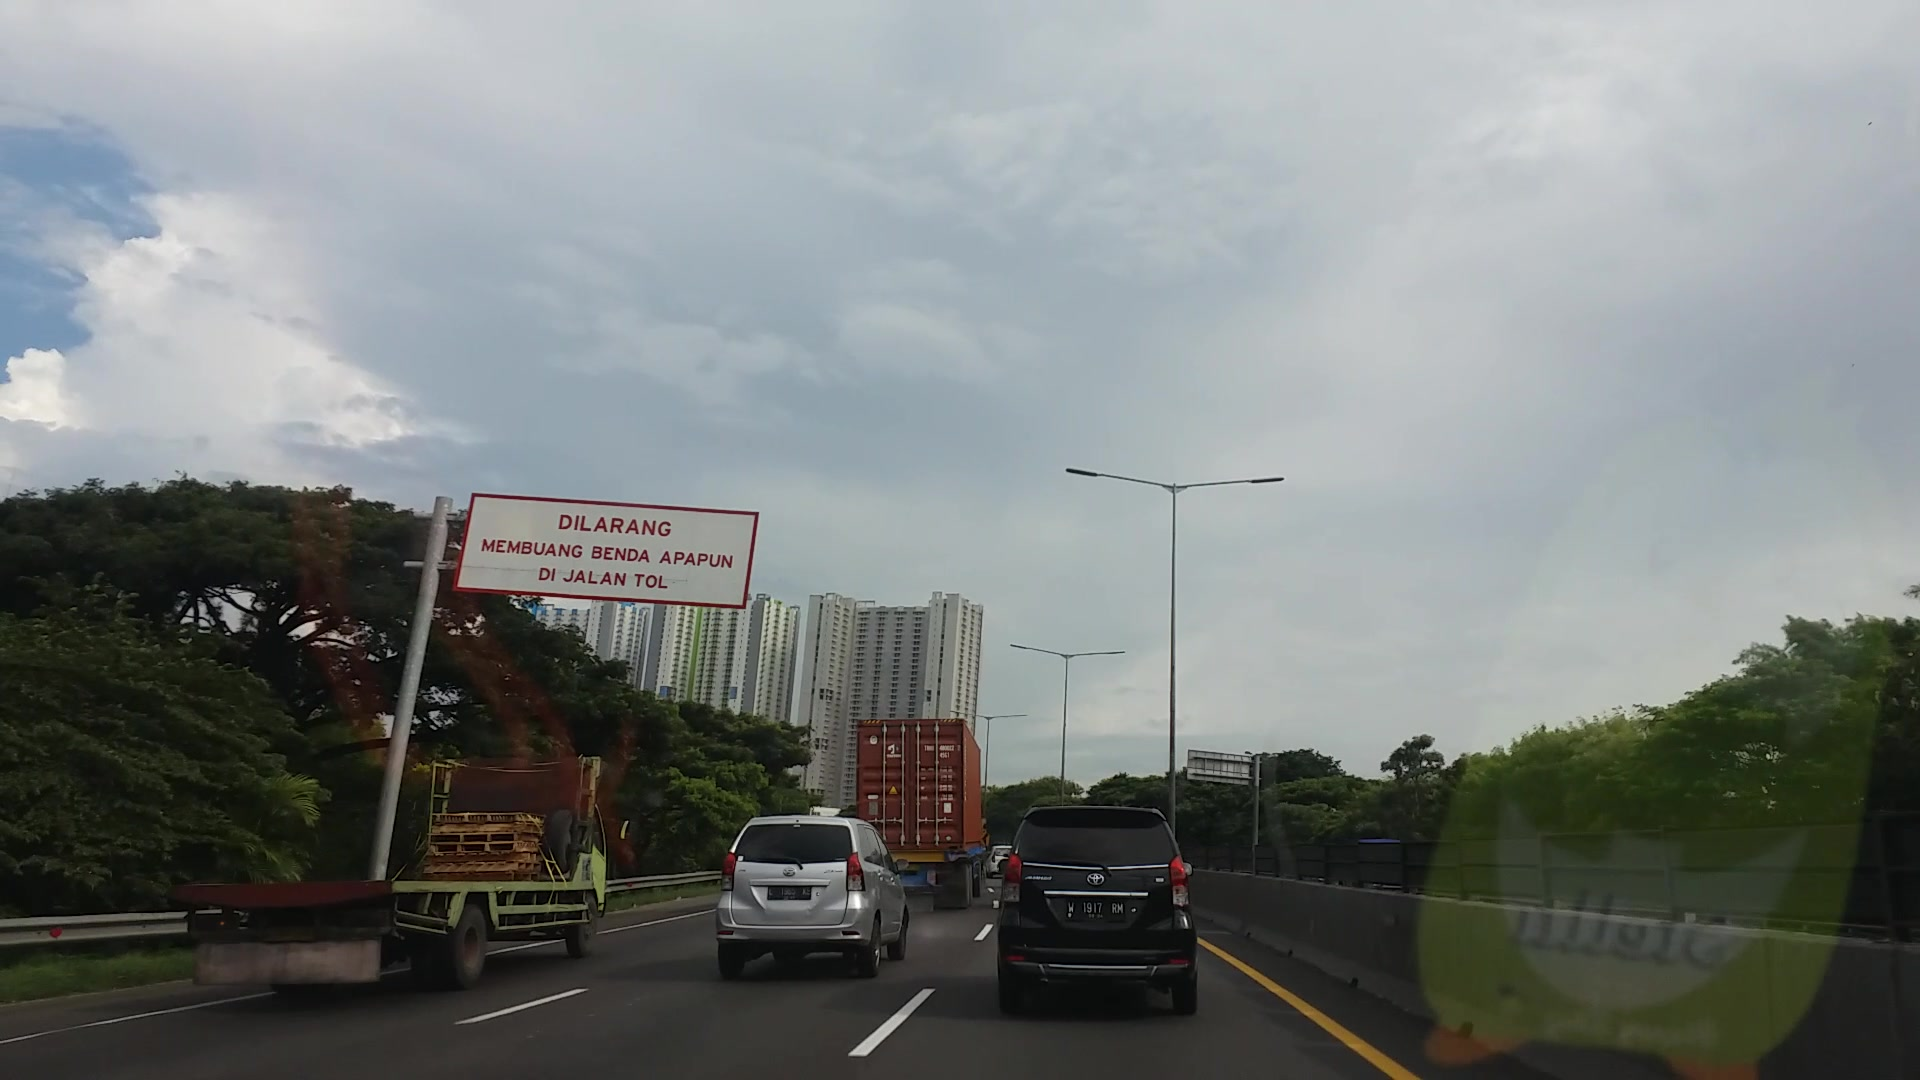plate_positive: (1065, 899, 1126, 922)
